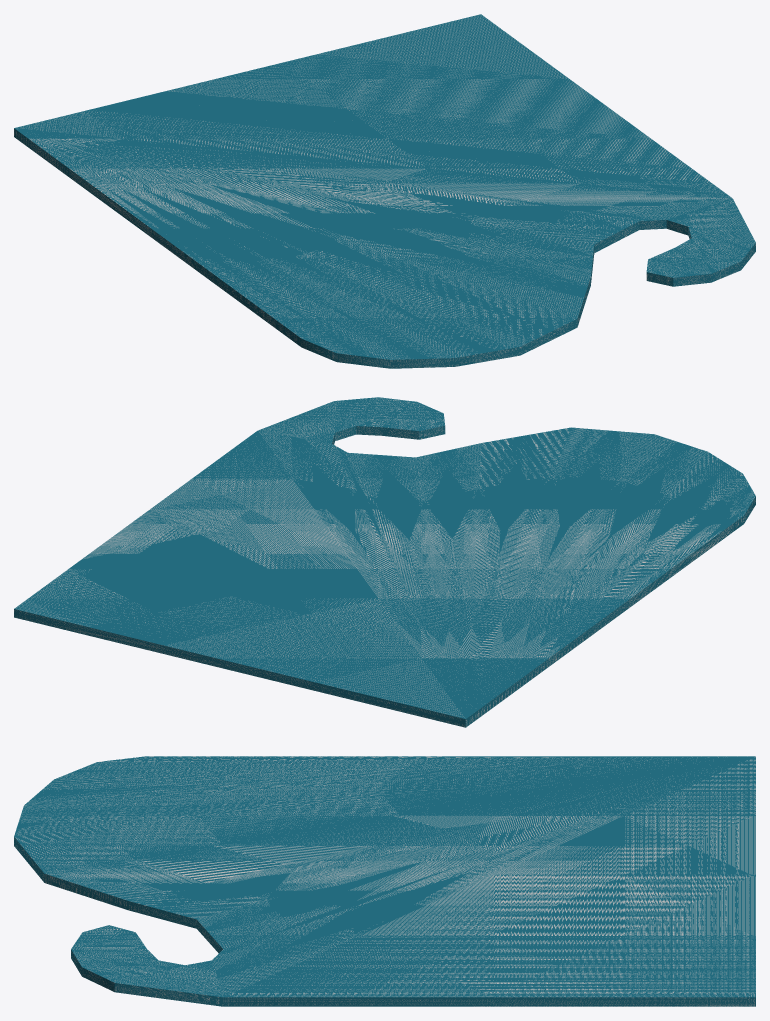
File: original-11.obj
3 views of the same model, one above another, from view 1: azimuth 30°, elevation 25°; view 2: azimuth 150°, elevation 25°; view 3: azimuth 270°, elevation 25° (orthographic). The views are drawn at different scales.
Parts seen in each view (by area): view 1: mesh9/mesh9-geometry#mesh9-geometry; view 2: mesh9/mesh9-geometry#mesh9-geometry; view 3: mesh9/mesh9-geometry#mesh9-geometry.
Part boxes in pixels (bbox=[...]): mesh9/mesh9-geometry#mesh9-geometry: bbox=[14, 14, 755, 368]; mesh9/mesh9-geometry#mesh9-geometry: bbox=[14, 397, 755, 727]; mesh9/mesh9-geometry#mesh9-geometry: bbox=[14, 756, 755, 1006].
Size of the model in its own units: 0.0363 by 0.000658 by 0.0471.
